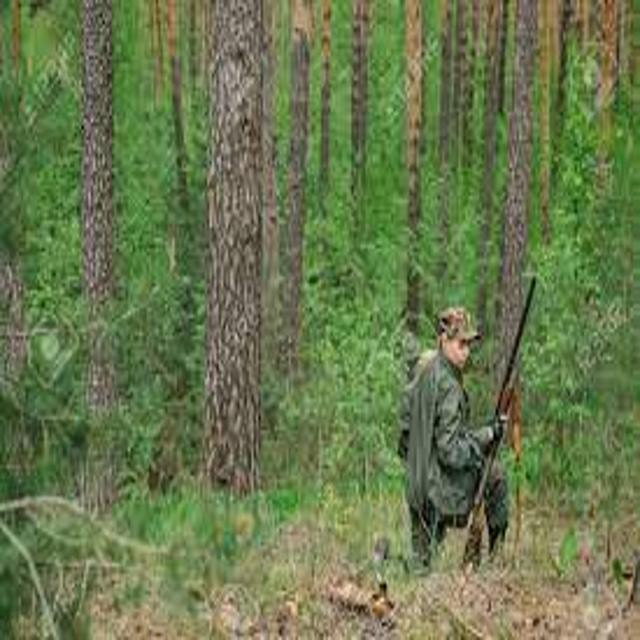gun: (428, 257, 560, 589)
poacher: (354, 288, 545, 601)
